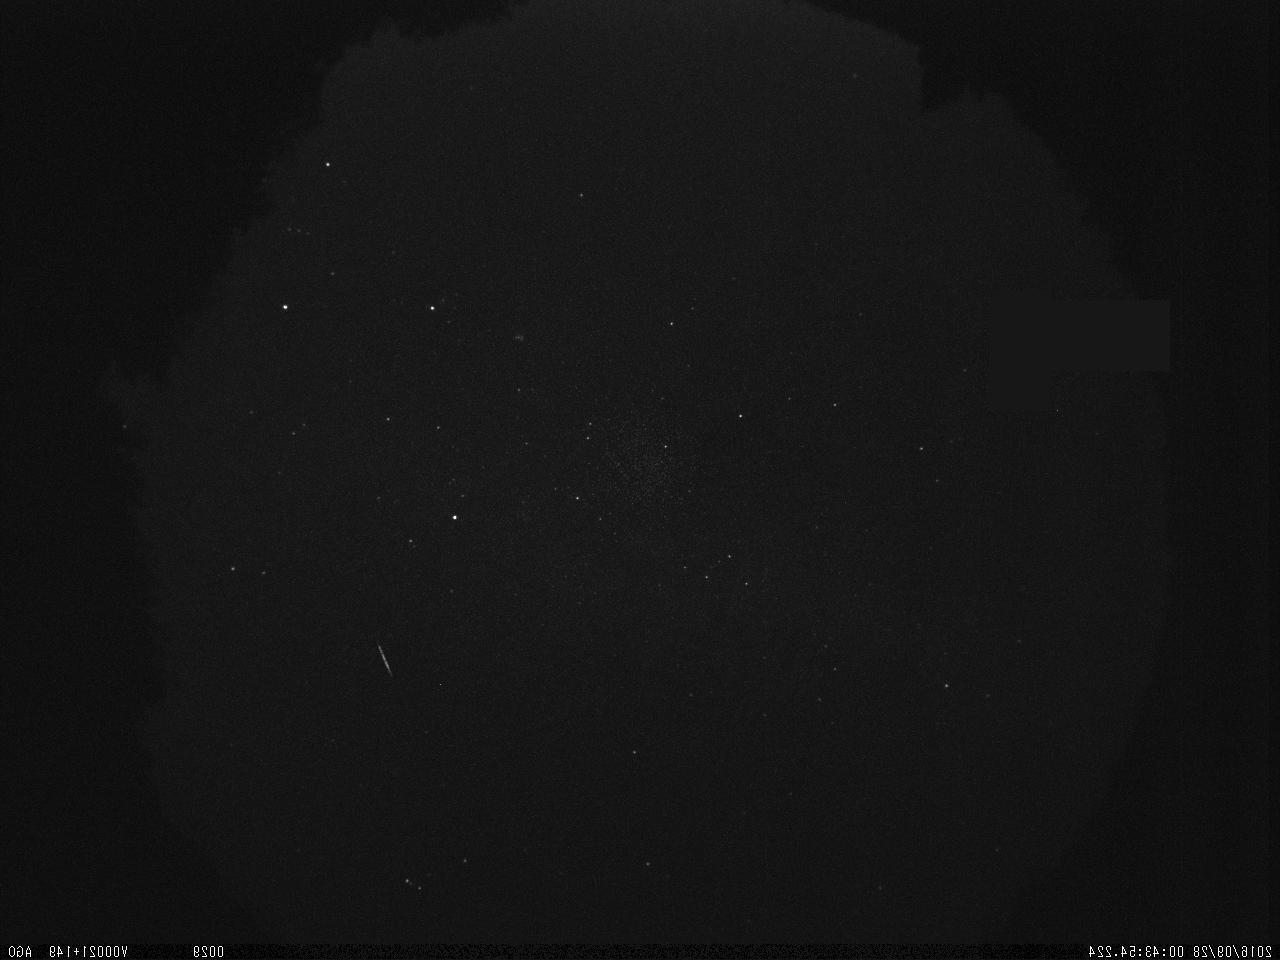meteor: (368, 635, 399, 676)
